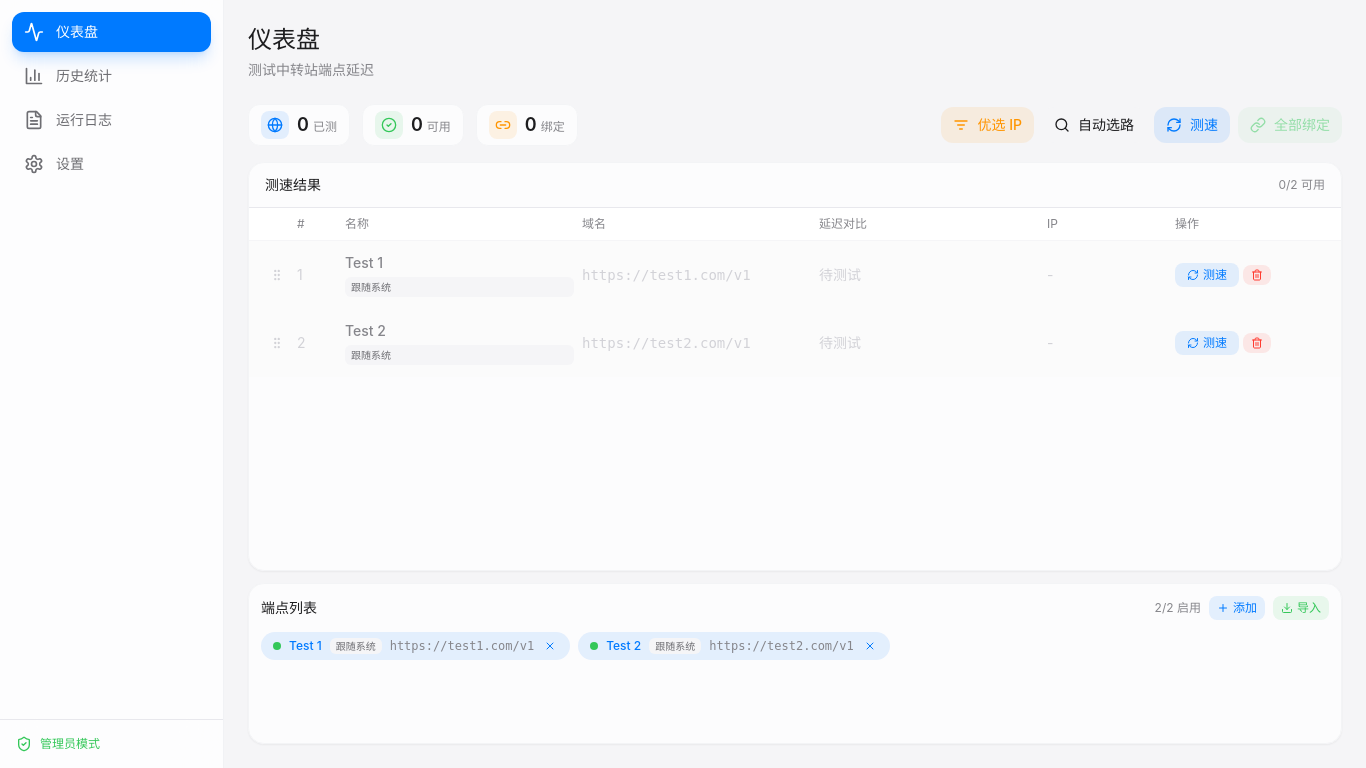
Test: App › navigates to logs
The image size is (1366, 768).
Expected: the text "运行日志" is shown, [56,110,112,130]
Click the button "运行日志".
click(112, 120)  # box [12,100,211,140]
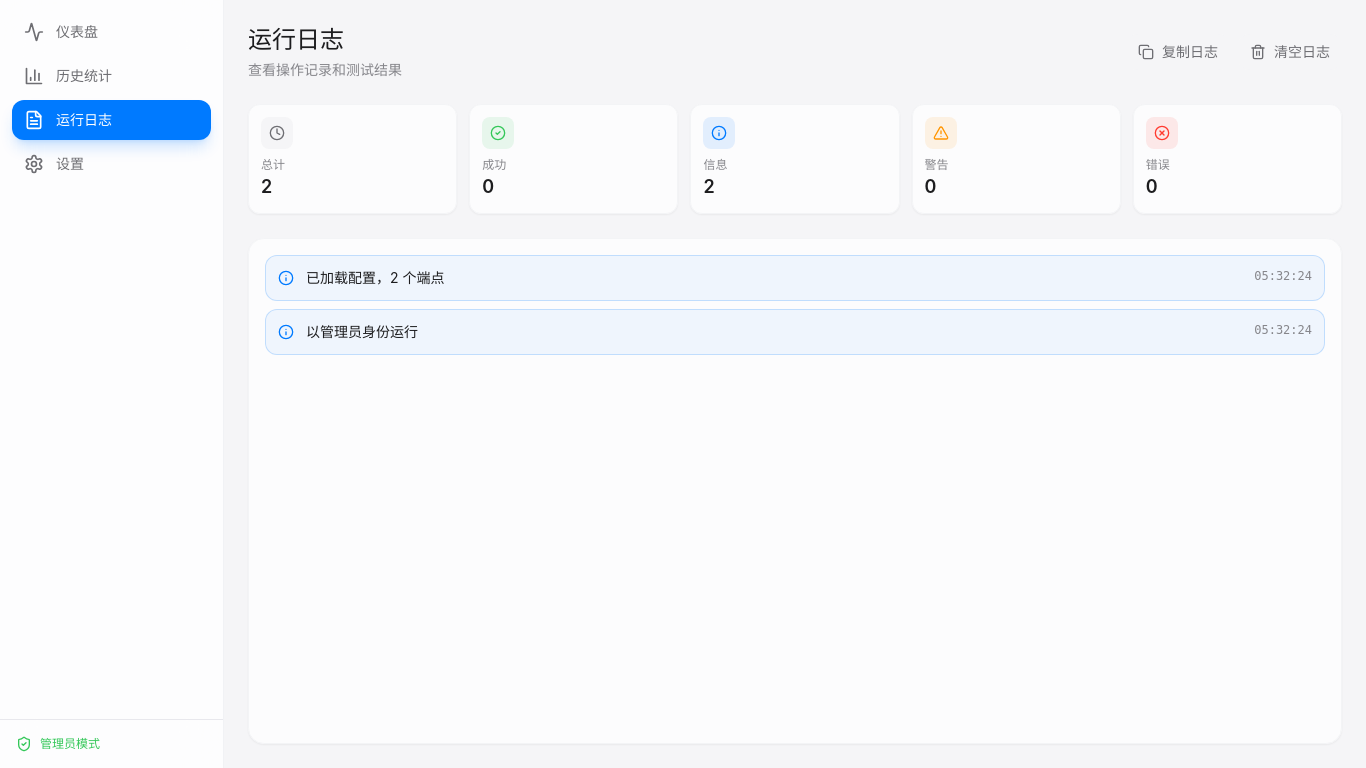
Expected: the text "查看操作记录和测试结果" is shown, [248,60,402,80]
